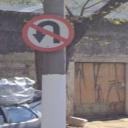NoVirarU: (20, 14, 77, 52)
